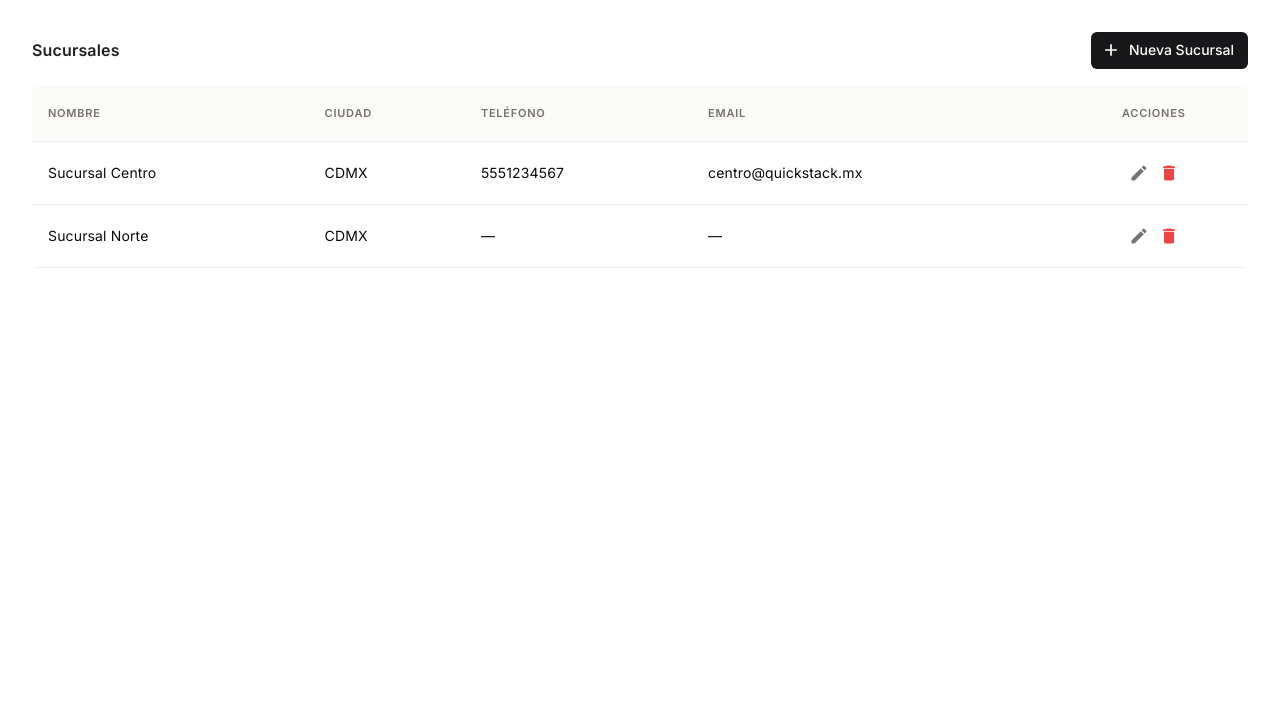
it: BranchList › opens edit form with existing data
Expected: the text "Sucursal Centro" is shown, [32,141,308,204]
Click the button named "editar Sucursal Centro": (1139, 172) [1124,158,1154,188]
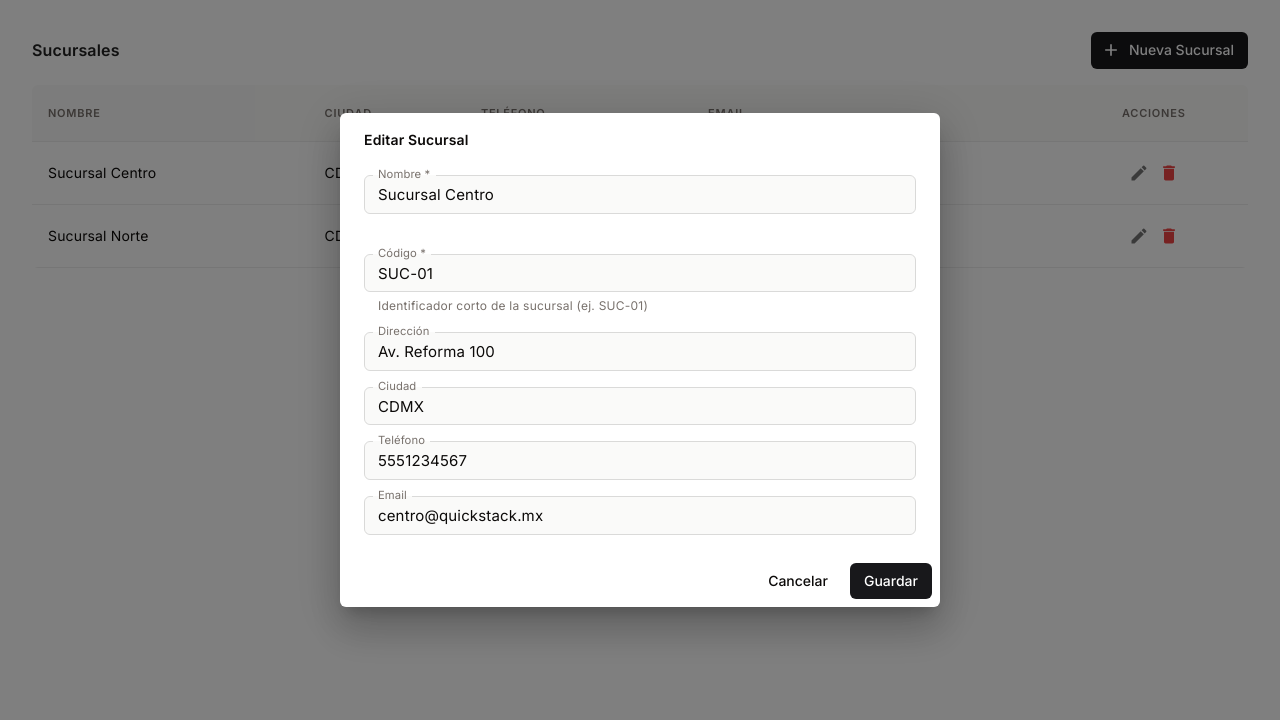
Expected: the dialog is shown, [340,113,940,607]
Expected: the field named "nombre sucursal" holds "Sucursal Centro", [364,175,916,214]
